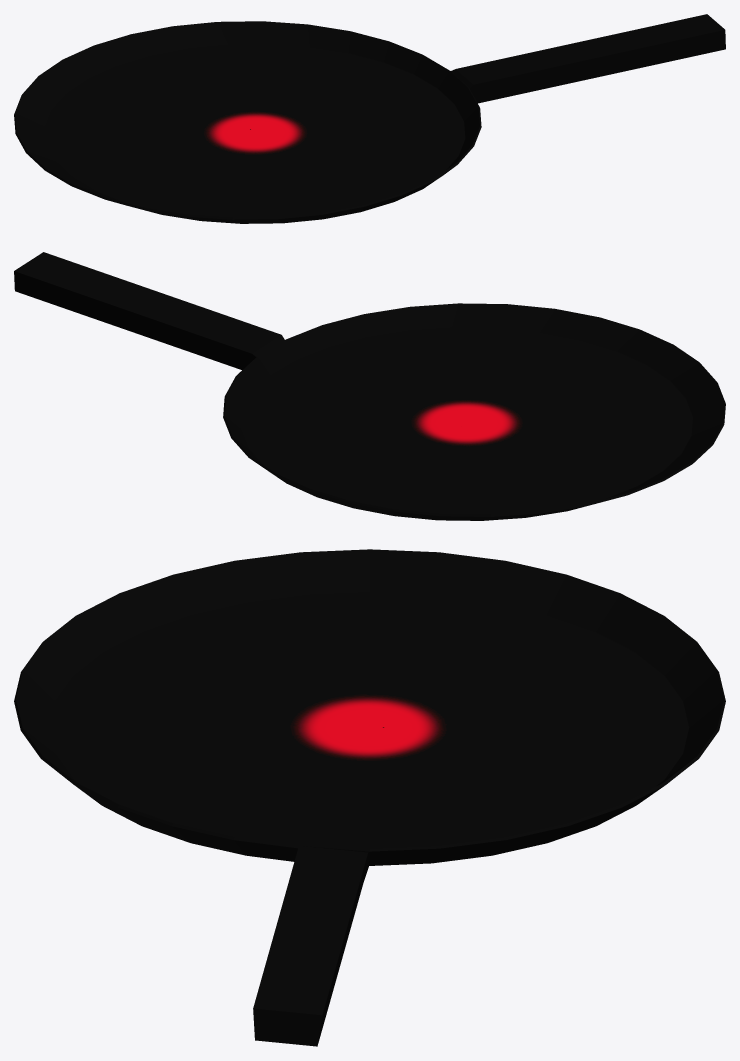
The model's file is fan.fbx.
3 views of the same model, one above another, from view 1: azimuth 30°, elevation 25°; view 2: azimuth 150°, elevation 25°; view 3: azimuth 270°, elevation 25° (orthographic). The views are drawn at different scales.
Parts seen in each view (by area): view 1: Circle; view 2: Circle; view 3: Circle.
Part boxes in pixels (<box>): Circle: <box>14,14,725,223</box>; Circle: <box>14,252,725,520</box>; Circle: <box>14,549,725,1046</box>.
Bounding box in the file's own units: 355 × 16.02 × 222.
